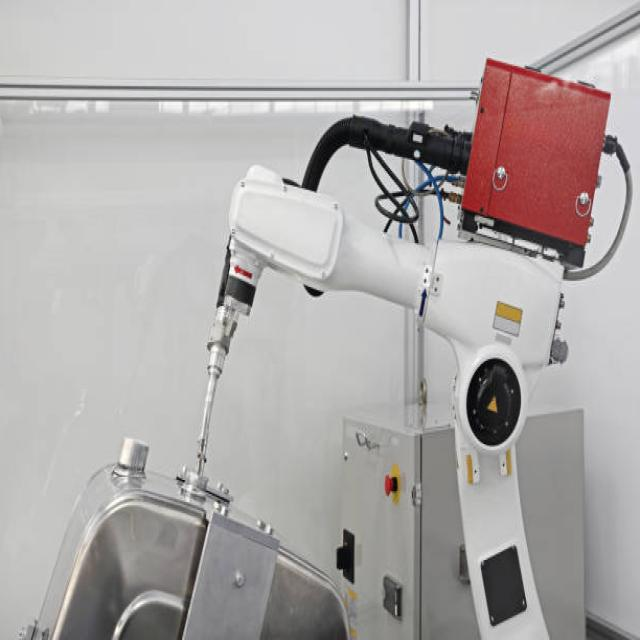Robotic-arm: (210, 170, 576, 640)
